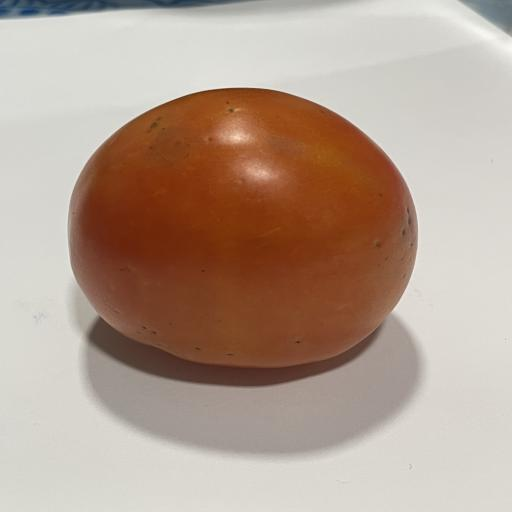unripe: (68, 88, 418, 367)
